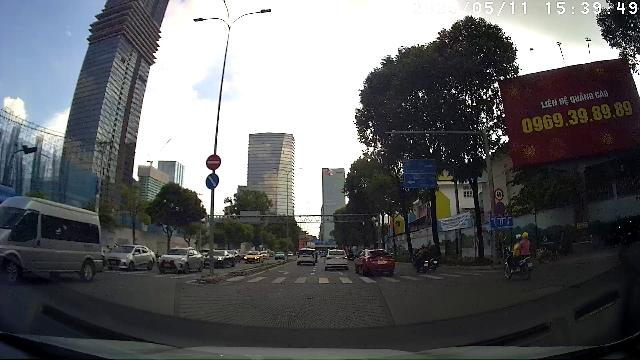102-cam-di-nguoc-chieu: (206, 154, 222, 170)
127-toc-do-toi-da-60: (494, 188, 504, 201)
302a-huong-phai-di-vong-chuong-ngai-vat-1: (205, 173, 219, 189)
